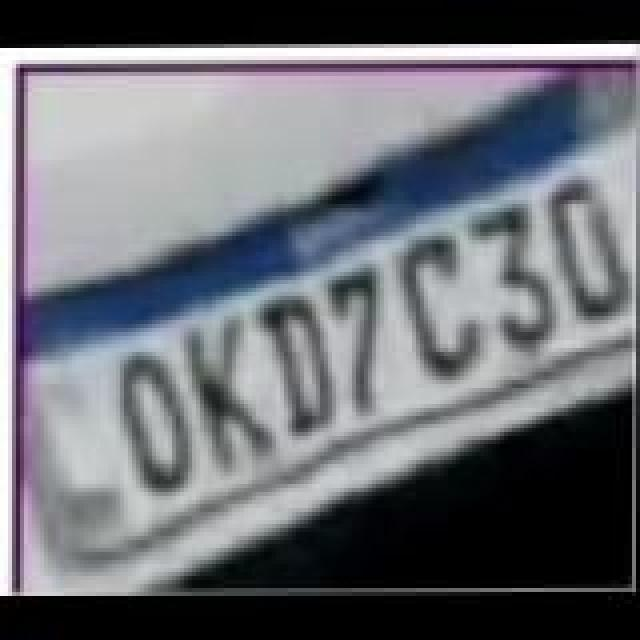3: (474, 200, 562, 352)
7: (328, 264, 396, 412)
C: (400, 232, 484, 380)
D: (552, 166, 636, 314), (258, 292, 338, 432)
K: (188, 312, 280, 468)
O: (120, 350, 196, 498)
